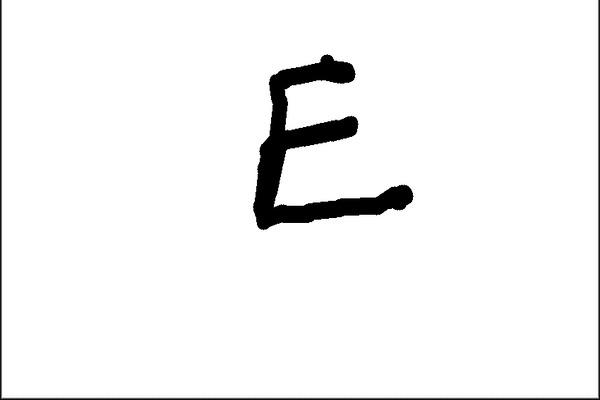E: (246, 50, 418, 232)
